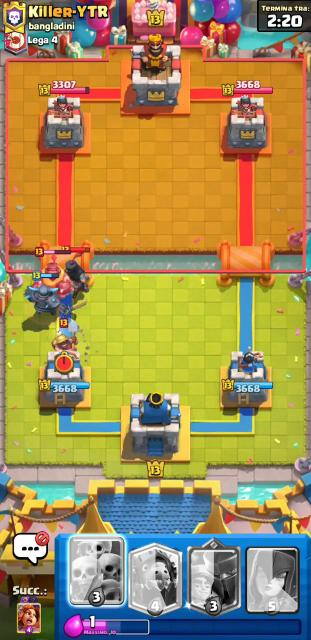ally_melee: (24, 270, 87, 316)
enemy_melee: (31, 247, 72, 299), (61, 246, 95, 298), (51, 319, 78, 351)
